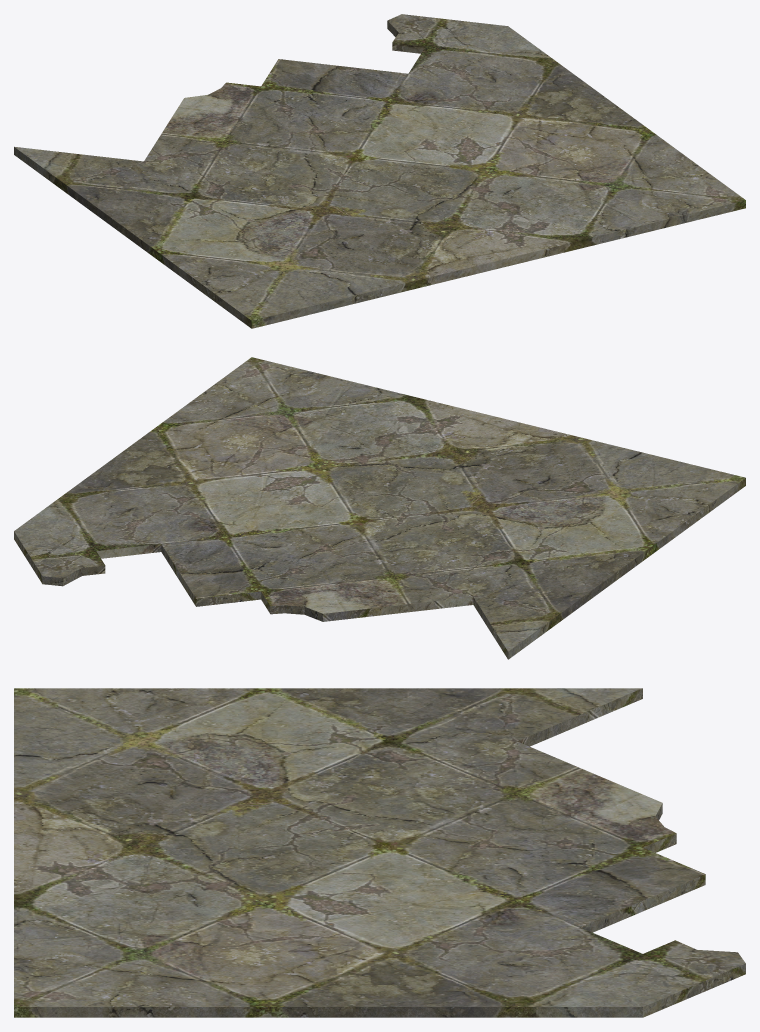
Rendered from bg_lut_lucastle_castlefloorcrack01a_sm_lkj.FBX.
3 renders of one model, top to bottom at view 1: azimuth 30°, elevation 25°; view 2: azimuth 150°, elevation 25°; view 3: azimuth 270°, elevation 25°, orthographic. The views are drawn at different scales.
Parts seen in each view (by area): view 1: bg_lut_lucastle_castlefloorcrack01a_sm_lkj; view 2: bg_lut_lucastle_castlefloorcrack01a_sm_lkj; view 3: bg_lut_lucastle_castlefloorcrack01a_sm_lkj.
Part boxes in pixels (<box>): bg_lut_lucastle_castlefloorcrack01a_sm_lkj: <box>14,14,745,328</box>; bg_lut_lucastle_castlefloorcrack01a_sm_lkj: <box>14,357,745,659</box>; bg_lut_lucastle_castlefloorcrack01a_sm_lkj: <box>14,688,745,1017</box>.
Bounding box in the file's own units: 512 × 8 × 497.
